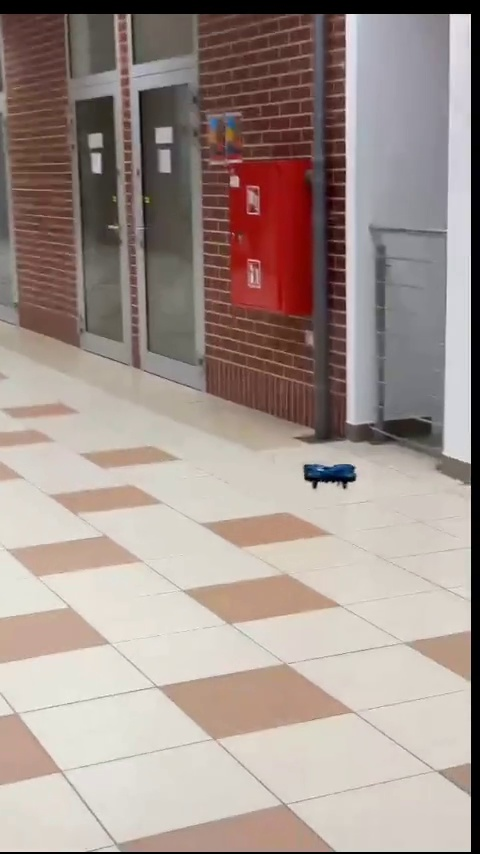drone: (301, 463, 358, 485)
